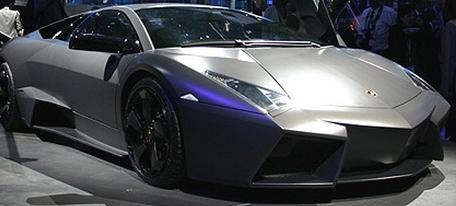front_view: (205, 62, 452, 193)
headlight: (202, 64, 290, 119)
side_glass: (33, 7, 147, 58)
